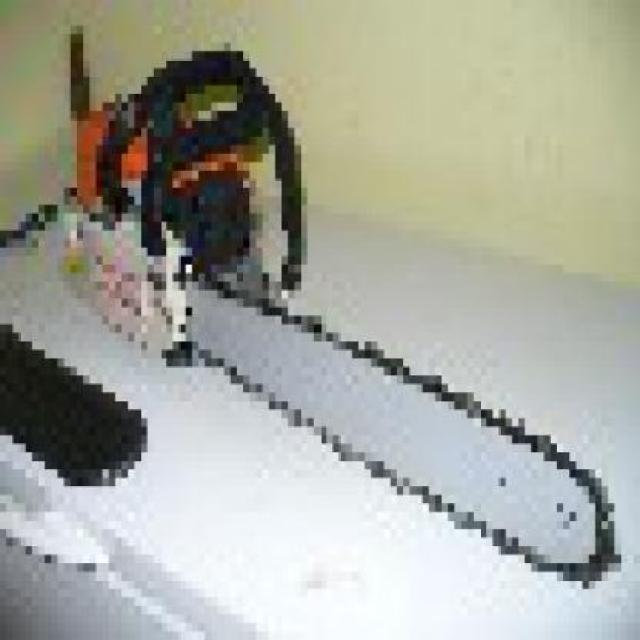Chainsaw: (59, 23, 623, 594)
